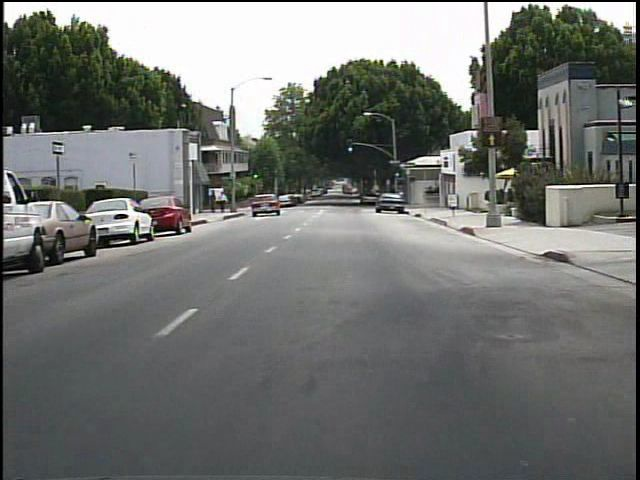person: (207, 190, 220, 215), (218, 190, 230, 213)
